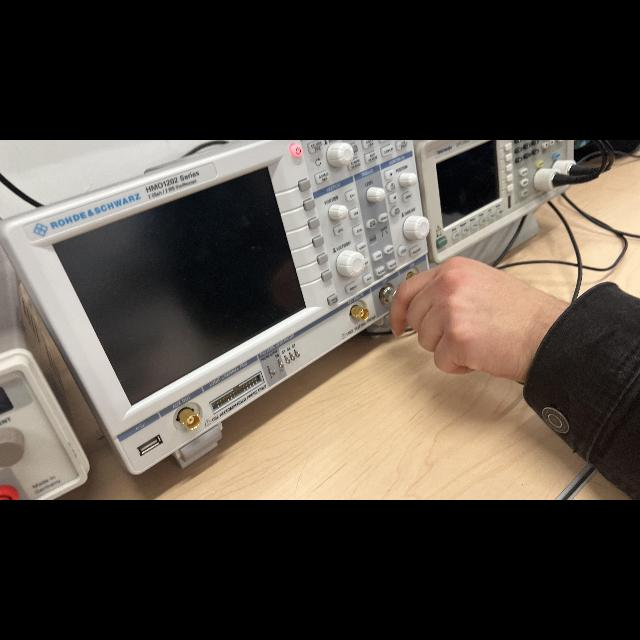Digital-Oscilloscope: (0, 140, 429, 474)
